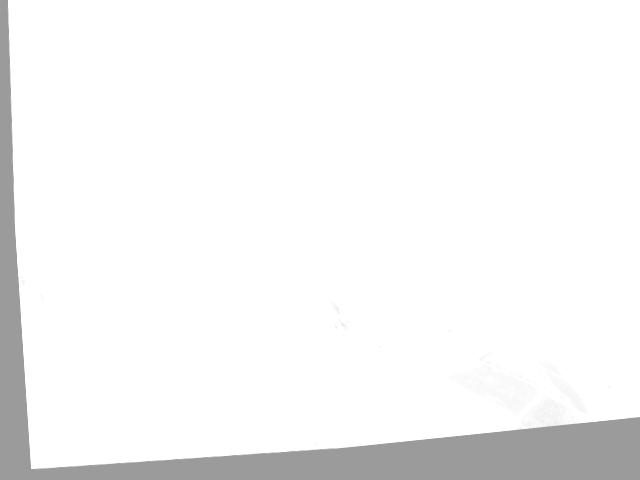hedef: (265, 147, 423, 230)
